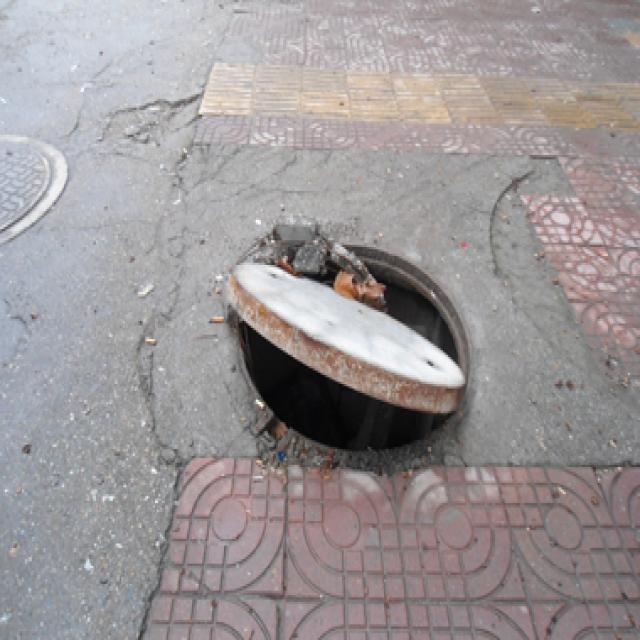manhole: (221, 223, 470, 456)
